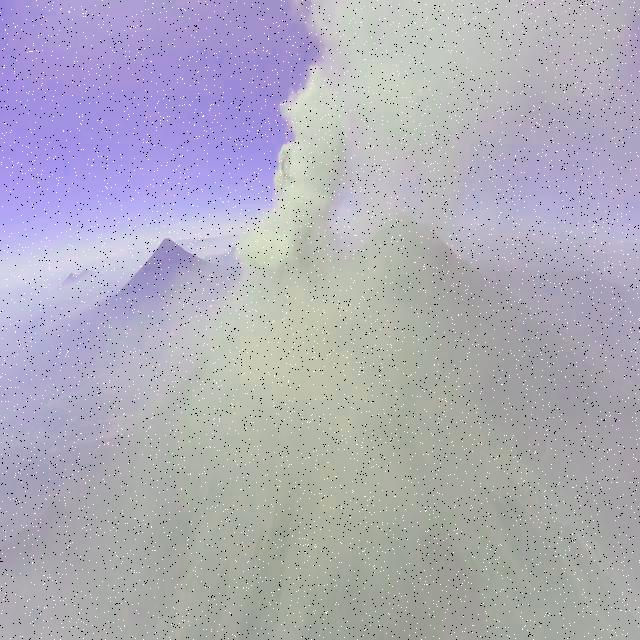Plume: (0, 226, 434, 640), (308, 0, 640, 211), (253, 67, 350, 298)
